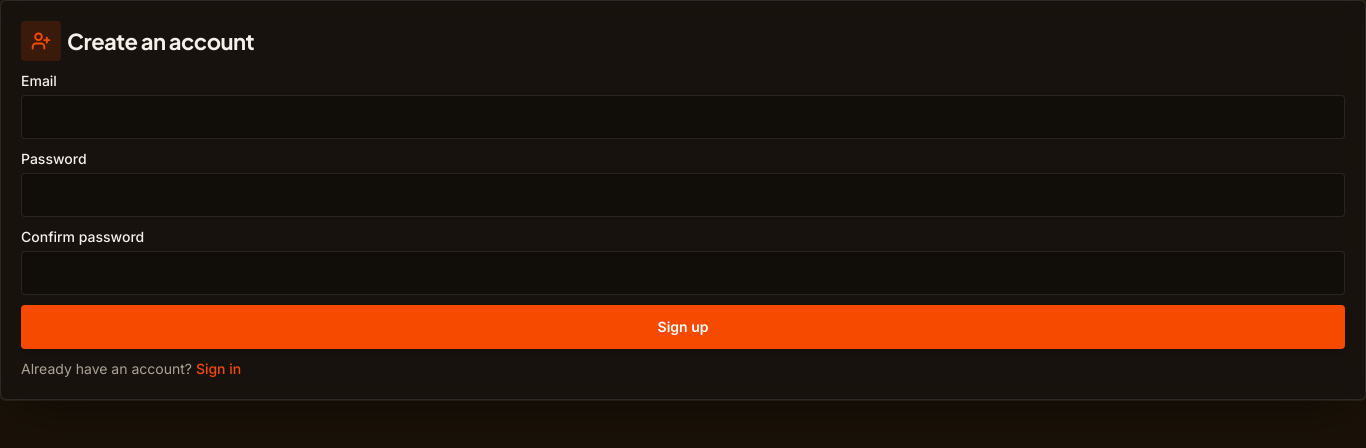
Scenario: SignUpForm › shows when the email is already registered
The width and height of the screenshot is (1366, 448).
In the field labelled "Email": coordinates (683, 117) [21,95,1345,139], type "user@example.com"
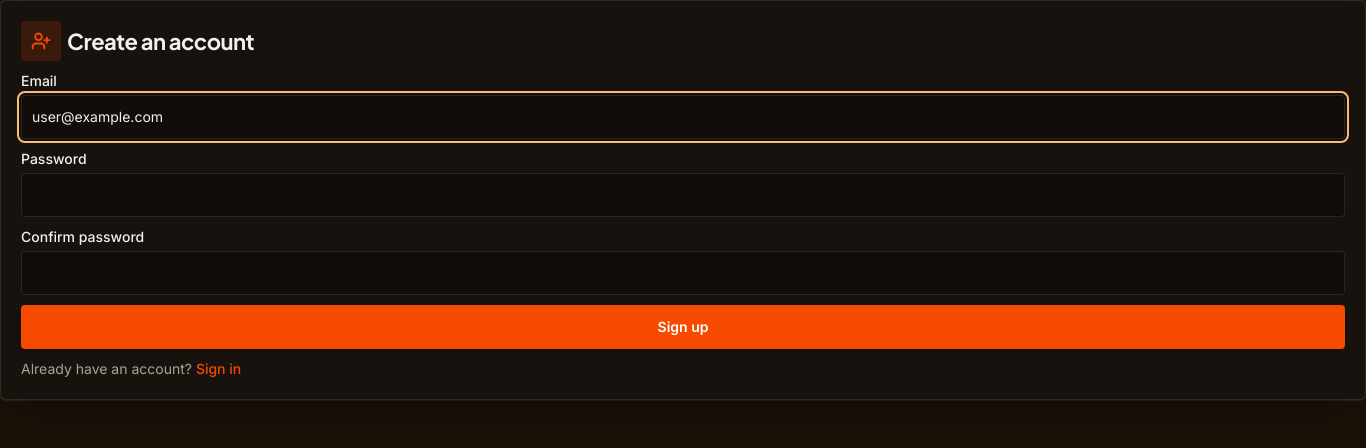
In the password field labelled "Password": coordinates (683, 195) [21,173,1345,217], type "StrongPassword123!"
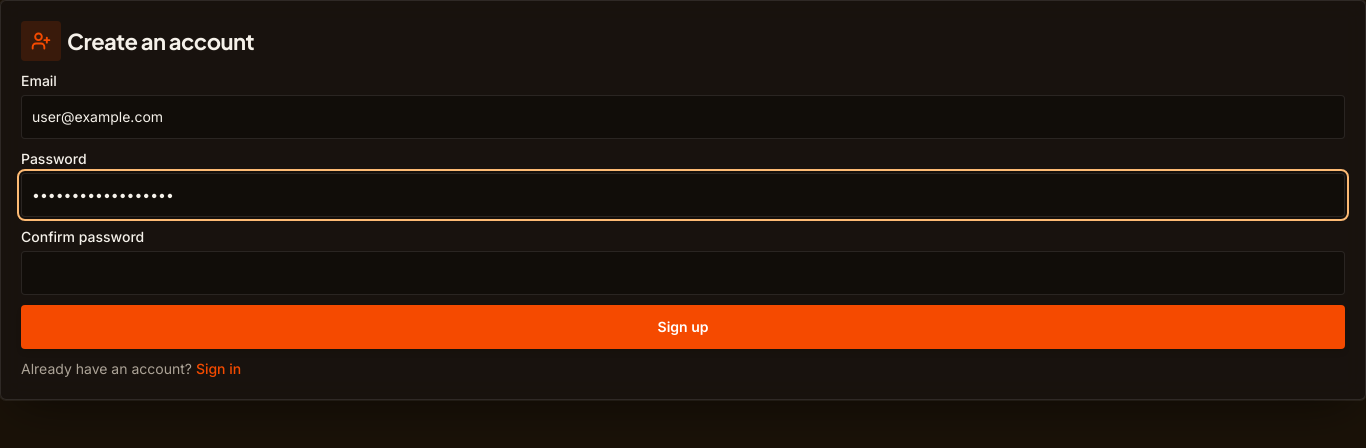
In the password field labelled "Confirm password": coordinates (683, 273) [21,251,1345,295], type "StrongPassword123!"
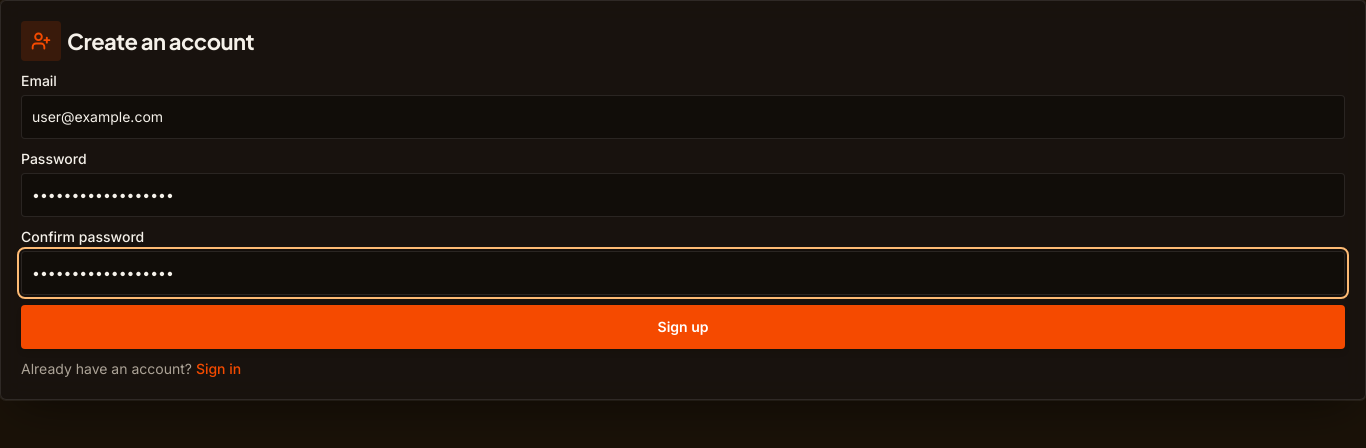
Click the button "Sign up": coordinates (683, 327) [21,305,1345,349]
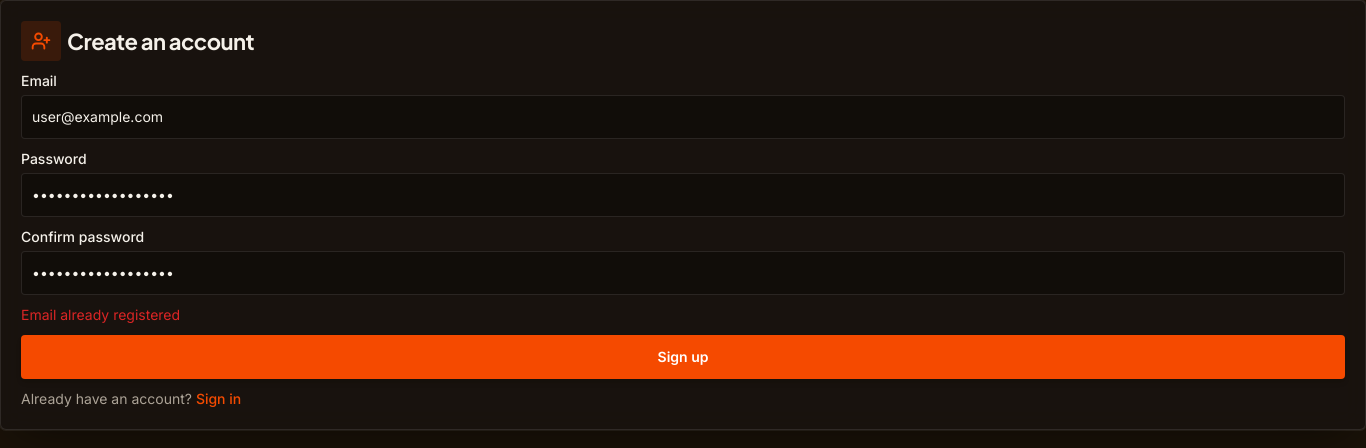
Expected: the message reads "Email already registered", [21,306,180,323]
